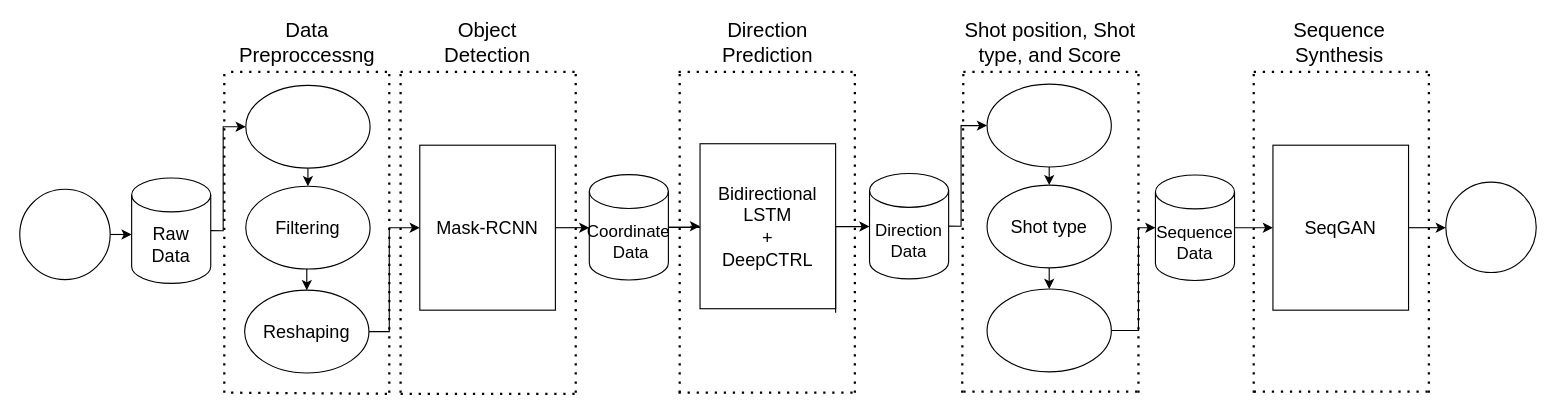
The diagram is 1556 pixels wide and 416 high, and some of its shapes have lost their labels. The box of each missing label's shape, as (x1, y1, x2, y2) in pixels:
Cropping: (245, 84, 370, 168)
Download: (19, 188, 110, 280)
Score: (986, 288, 1111, 372)
Shot position: (986, 83, 1111, 167)
Strategy: (1445, 181, 1536, 273)
